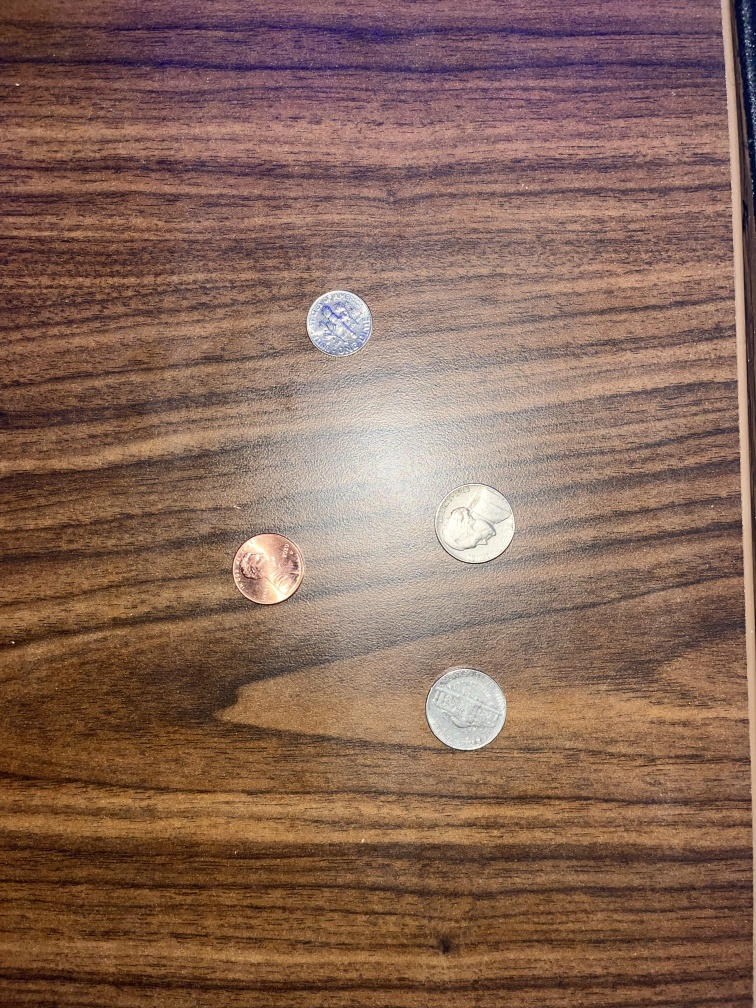dime: (299, 287, 376, 358)
nickel: (419, 661, 511, 759), (430, 477, 520, 570)
penny: (228, 529, 307, 615)
